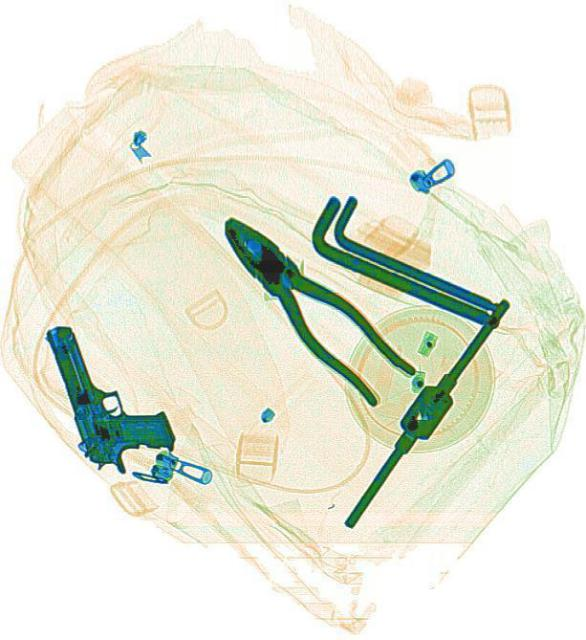Gun: (39, 301, 178, 484)
Pliers: (201, 196, 417, 414)
